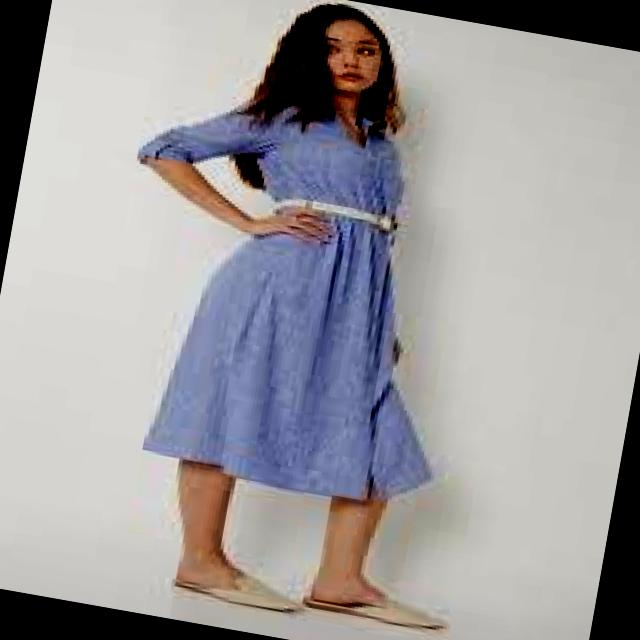dress: (143, 214, 432, 500)
